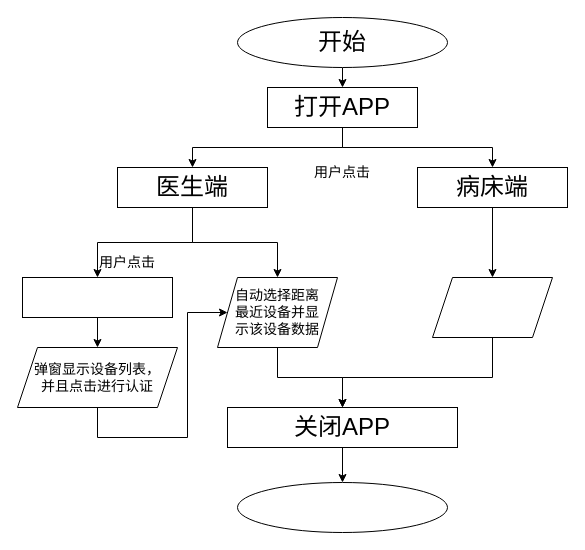
This 585x550 diagram has some shape labels left out. Here are the shapes that lost their labels. From the top down, the centre of each, then its label:
At point 97,297: "设备管理".
At point 492,307: "显示当前 监测数据".
At point 342,507: "结束".
